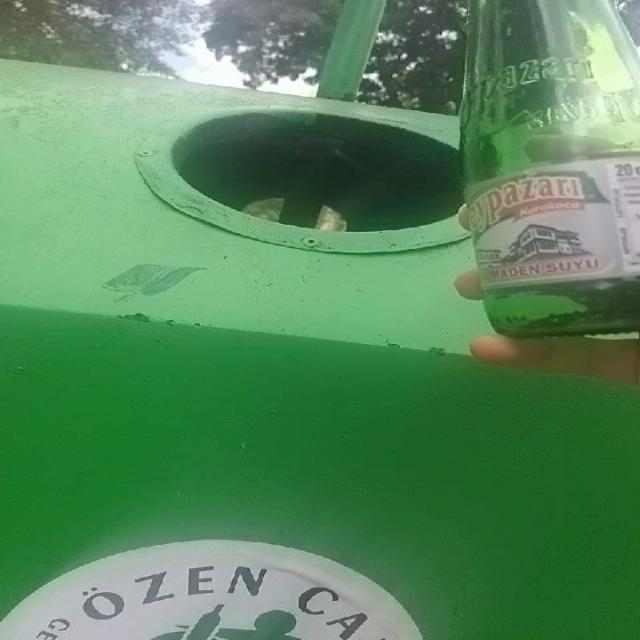glass: (461, 0, 640, 338)
